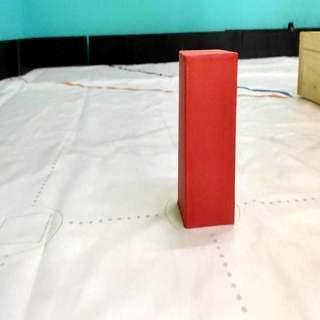redbox: (177, 48, 237, 228)
